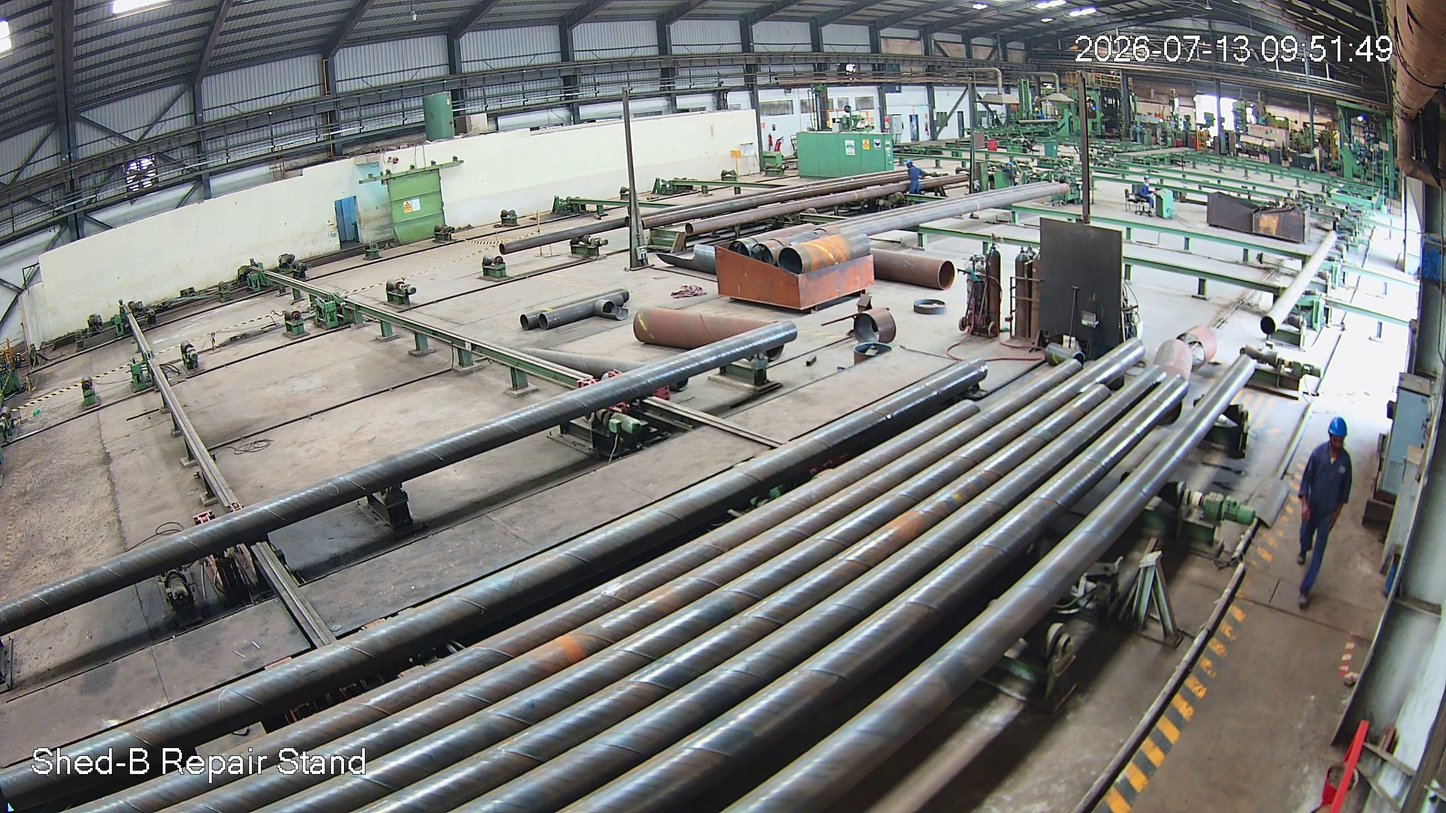Helmet: (1319, 413, 1351, 467)
Person: (1283, 417, 1363, 610)
